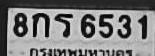1: (137, 14, 146, 38)
3: (116, 14, 130, 38)
5: (98, 13, 113, 37)
6: (80, 13, 94, 37)
8: (12, 12, 27, 36)
A01: (31, 12, 49, 37)
A35: (54, 13, 72, 37)
